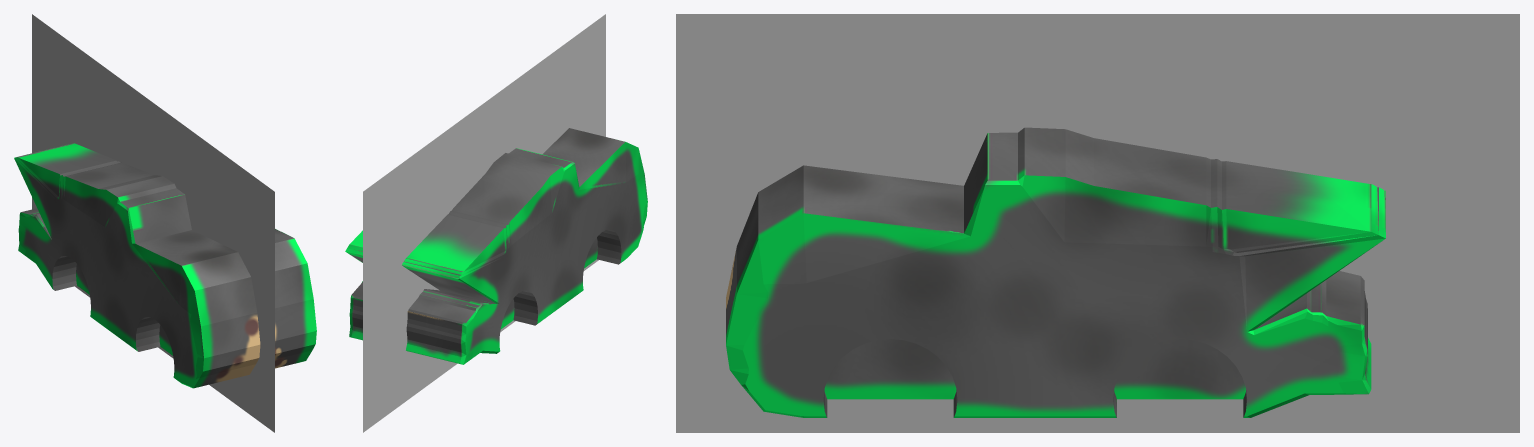
File: tanker.fbx
3 renders of one model, left to right at view 1: azimuth 30°, elevation 25°; view 2: azimuth 150°, elevation 25°; view 3: azimuth 270°, elevation 25°, orthographic. The views are drawn at different scales.
Visible parts, largest first — view 1: Cube, Car Ref; view 2: Cube, Car Ref; view 3: Car Ref, Cube.
Part boxes in pixels (x1=…): Cube: x1=14, y1=143, x2=316, y2=388; Car Ref: x1=32, y1=14, x2=274, y2=432; Cube: x1=345, y1=128, x2=647, y2=364; Car Ref: x1=363, y1=14, x2=605, y2=432; Car Ref: x1=676, y1=14, x2=1519, y2=432; Cube: x1=726, y1=127, x2=1385, y2=417.
Bounding box in the file's own units: 504 × 1000 × 1825.
